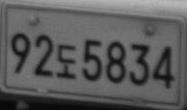2: (33, 33, 53, 77)
3: (129, 43, 150, 86)
4: (152, 46, 175, 90)
5: (81, 39, 103, 81)
8: (105, 40, 126, 84)
9: (9, 32, 31, 74)
도: (55, 43, 77, 79)
